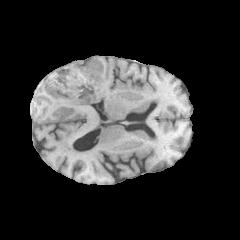glioma: (38, 61, 103, 122)
